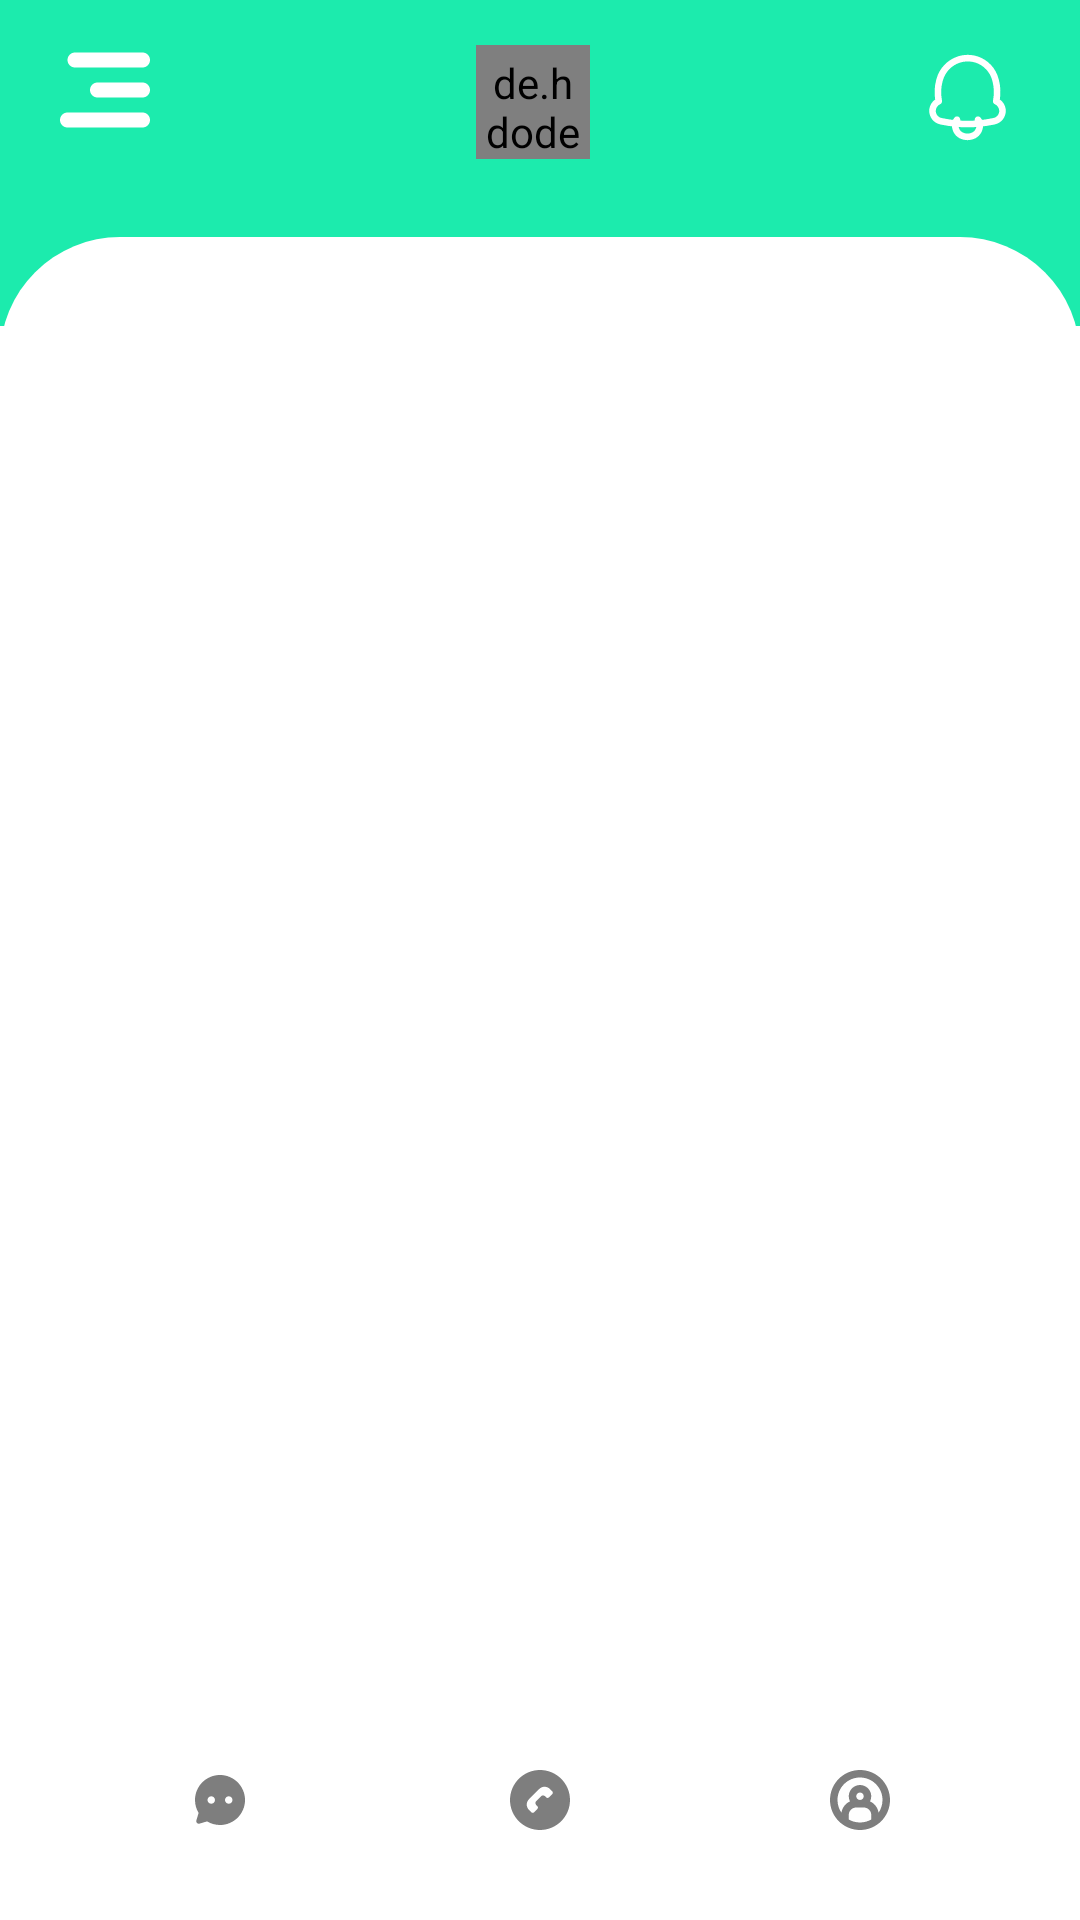

Named icons in this screenshot (1080w x 1920h) and their bounding boxes, (x1, y1, x2, y2):
align: (60, 52, 150, 128)
blackcall: (510, 1770, 570, 1830)
blackchat: (195, 1775, 245, 1825)
blackprofile: (830, 1770, 890, 1830)
notification: (929, 54, 1006, 141)
